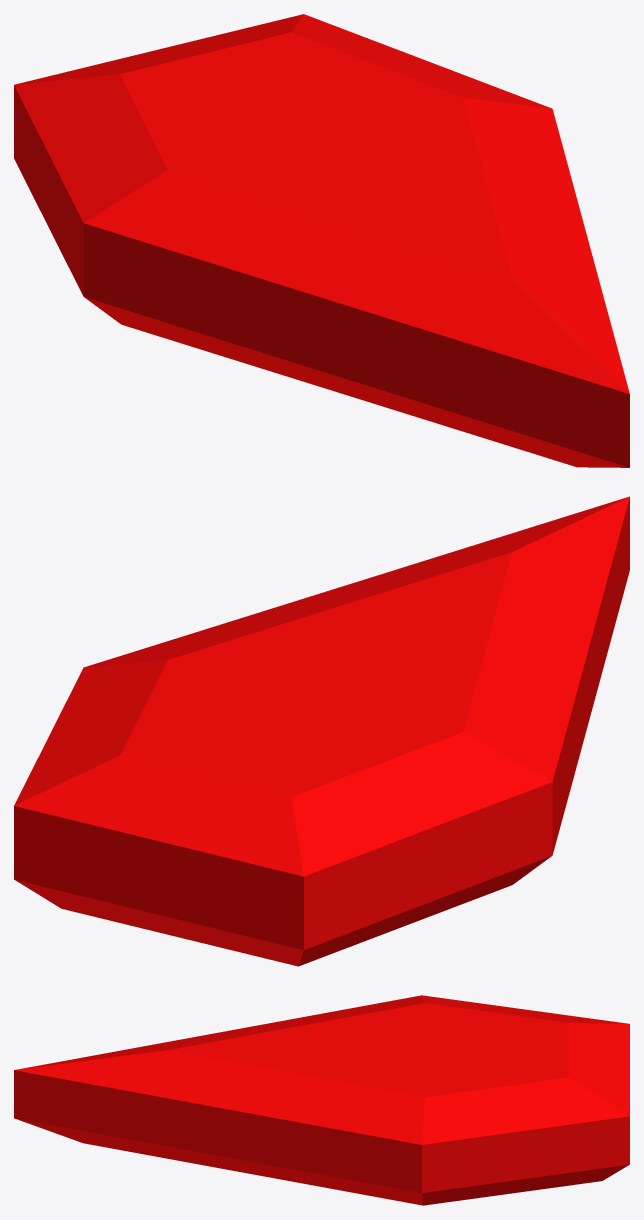
The model's file is Jem_02.fbx.
3 renders of one model, top to bottom at view 1: azimuth 30°, elevation 25°; view 2: azimuth 150°, elevation 25°; view 3: azimuth 270°, elevation 25°, orthographic. The views are drawn at different scales.
Visible parts, largest first — view 1: Jem_02; view 2: Jem_02; view 3: Jem_02.
Boxes of the visible parts, bbox=[...] form: Jem_02: bbox=[14, 14, 629, 467]; Jem_02: bbox=[14, 496, 629, 966]; Jem_02: bbox=[14, 995, 629, 1205].
Size of the model in its own units: 38.04 by 11.03 by 66.18.
